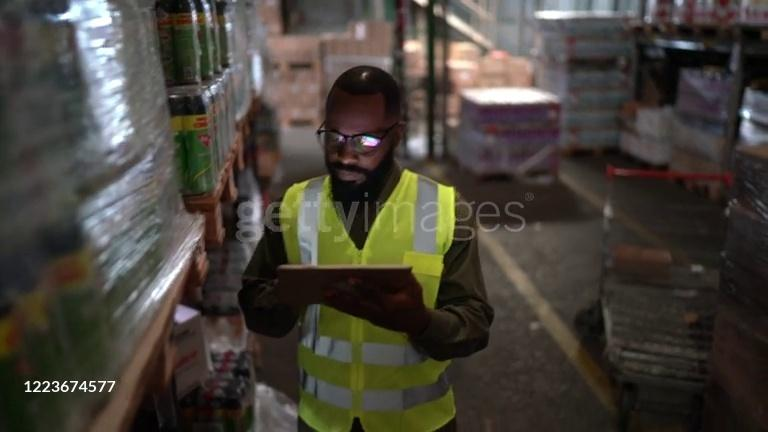person: (237, 67, 496, 432)
